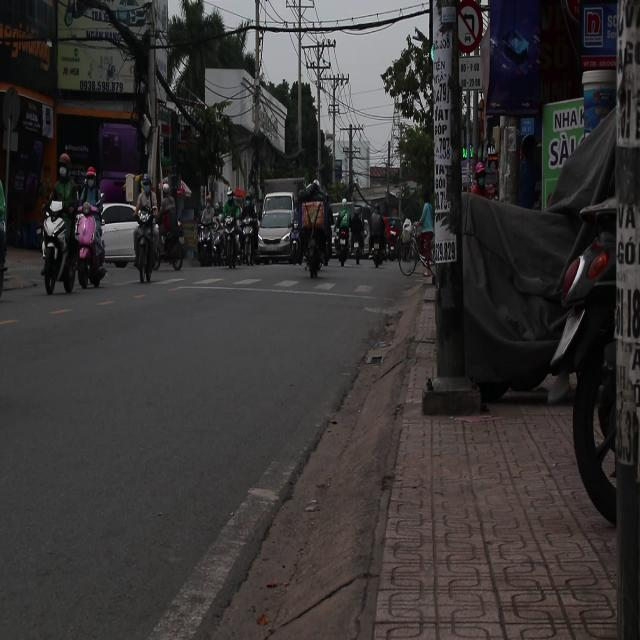car: (259, 207, 306, 264)
motorbike: (40, 191, 82, 294), (71, 203, 107, 291), (132, 208, 167, 284), (163, 218, 189, 273), (230, 219, 258, 268), (217, 220, 244, 269), (332, 206, 352, 266), (196, 222, 216, 267)
